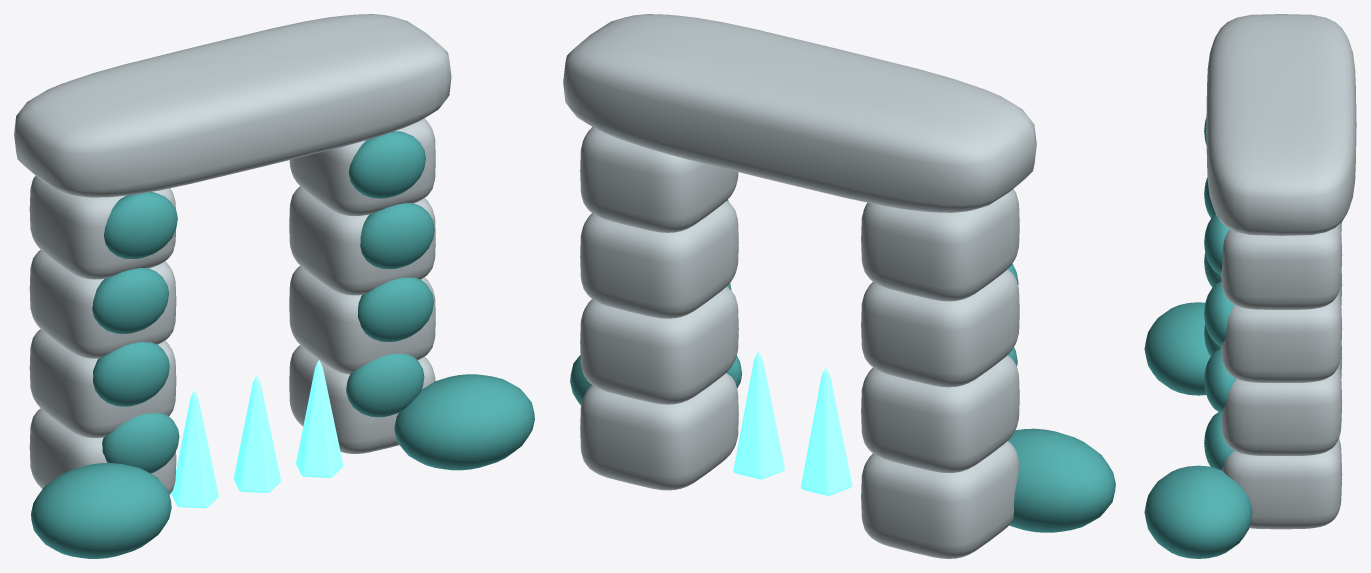
The model's file is Decor_Valley.fbx.
3 renders of one model, left to right at view 1: azimuth 30°, elevation 25°; view 2: azimuth 150°, elevation 25°; view 3: azimuth 270°, elevation 25°, orthographic. The views are drawn at different scales.
Parts seen in each view (by area): view 1: Lintel, Mossy boulder, Mossy boulder.001, Ancient pillar.006, Ancient pillar.001, Ancient pillar.005, Ancient pillar.002, Ancient pillar.003, Ancient pillar.007, Ancient pillar.004, Ancient pillar, Moss.007 (+10 smaller); view 2: Lintel, Ancient pillar.005, Ancient pillar.006, Ancient pillar.004, Ancient pillar.002, Ancient pillar.001, Ancient pillar, Ancient pillar.003, Ancient pillar.007, Mossy boulder, River crystal.001, River crystal.002; view 3: Lintel, Ancient pillar.007, Ancient pillar.006, Ancient pillar.005, Mossy boulder.001, Ancient pillar.004, Mossy boulder, Moss.006, Moss.005, Moss.004, Moss.007, Moss.001.
Part boxes in pixels (x1,y1,x2,y2): Lintel: [14, 14, 451, 197]; Mossy boulder: [31, 463, 171, 558]; Mossy boulder.001: [394, 374, 534, 470]; Ancient pillar.006: [289, 186, 435, 295]; Ancient pillar.001: [29, 329, 176, 437]; Ancient pillar.005: [289, 266, 435, 374]; Ancient pillar.002: [29, 250, 176, 358]; Ancient pillar.003: [29, 175, 175, 279]; Ancient pillar.007: [289, 118, 435, 216]; Ancient pillar.004: [289, 345, 435, 453]; Ancient pillar: [29, 408, 176, 494]; Moss.007: [348, 131, 425, 198]; Lintel: [563, 14, 1036, 212]; Ancient pillar.005: [580, 286, 738, 404]; Ancient pillar.006: [580, 201, 738, 318]; Ancient pillar.004: [580, 373, 738, 490]; Ancient pillar.002: [861, 269, 1019, 387]; Ancient pillar.001: [861, 355, 1019, 472]; Ancient pillar: [861, 441, 1019, 558]; Ancient pillar.003: [861, 189, 1019, 301]; Ancient pillar.007: [580, 127, 738, 232]; Mossy boulder: [1008, 428, 1115, 532]; River crystal.001: [801, 367, 852, 495]; River crystal.002: [733, 350, 784, 479]; Lintel: [1206, 14, 1356, 235]; Ancient pillar.007: [1221, 223, 1342, 309]; Ancient pillar.006: [1221, 292, 1342, 382]; Ancient pillar.005: [1221, 365, 1342, 455]; Mossy boulder.001: [1144, 465, 1252, 558]; Ancient pillar.004: [1222, 438, 1342, 529]; Mossy boulder: [1144, 302, 1210, 395]; Moss.006: [1204, 281, 1234, 346]; Moss.005: [1204, 348, 1236, 412]; Moss.004: [1204, 412, 1234, 470]; Moss.007: [1204, 213, 1229, 274]; Moss.001: [1204, 252, 1221, 287].
Size of the model in its own units: 474 by 378 by 192.
